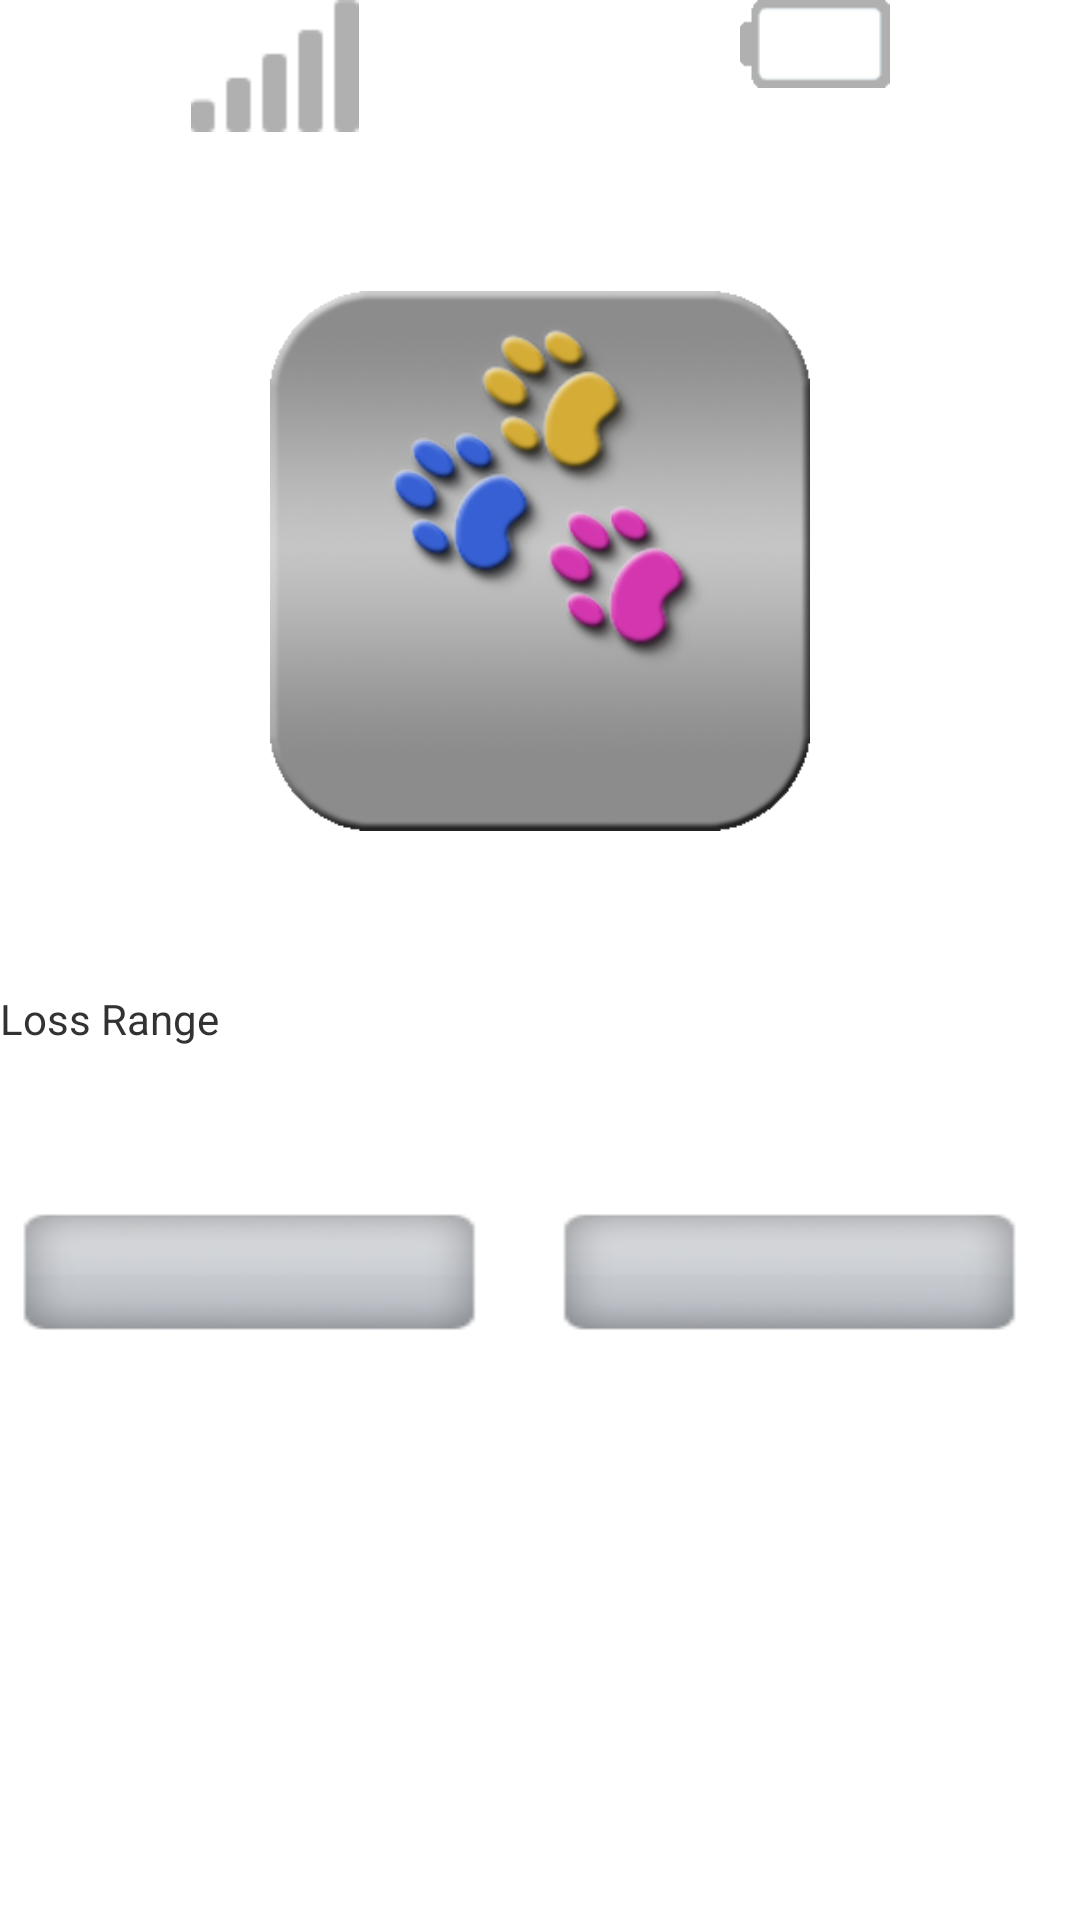

Screen size 1080w x 1920h. Icon name, then its box in pixels as (x1, y1, x2, y2):
signal: (191, 0, 359, 132)
